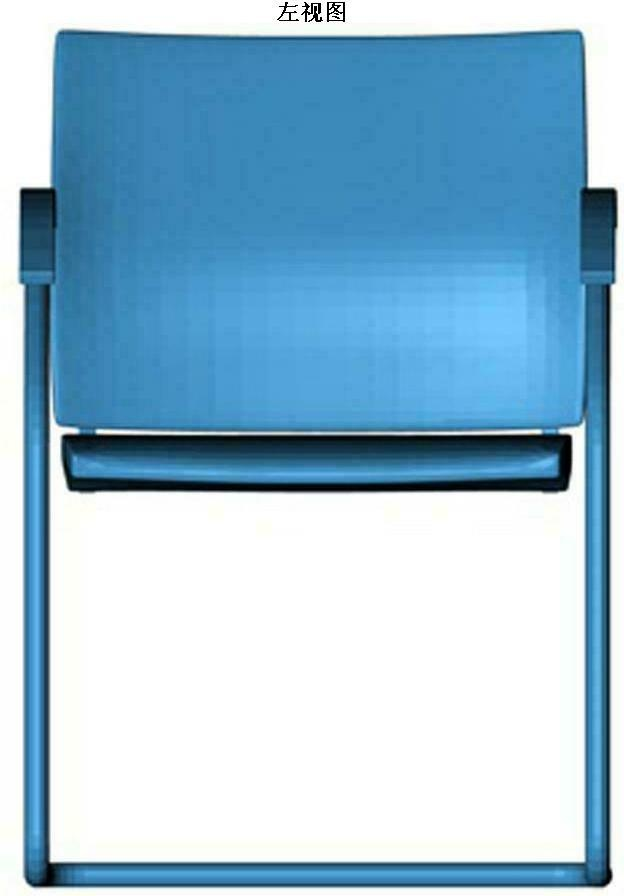obstacle: (21, 32, 614, 885)
